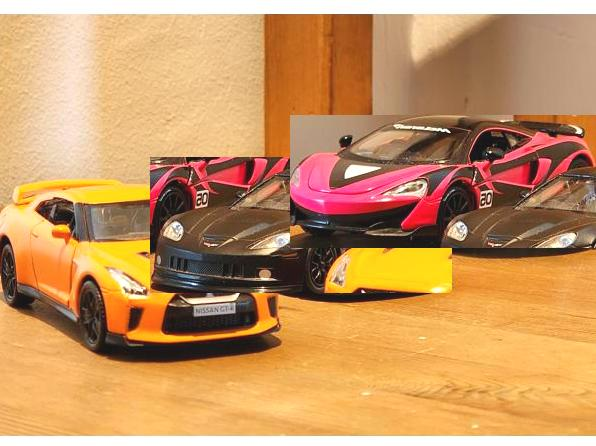toy-car: (0, 180, 282, 353), (150, 157, 452, 293), (290, 115, 596, 248)
